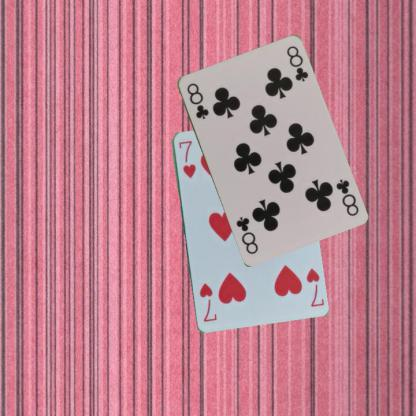7h: (303, 266, 325, 308), (176, 138, 197, 179)
8c: (333, 176, 360, 217), (184, 80, 209, 121)
